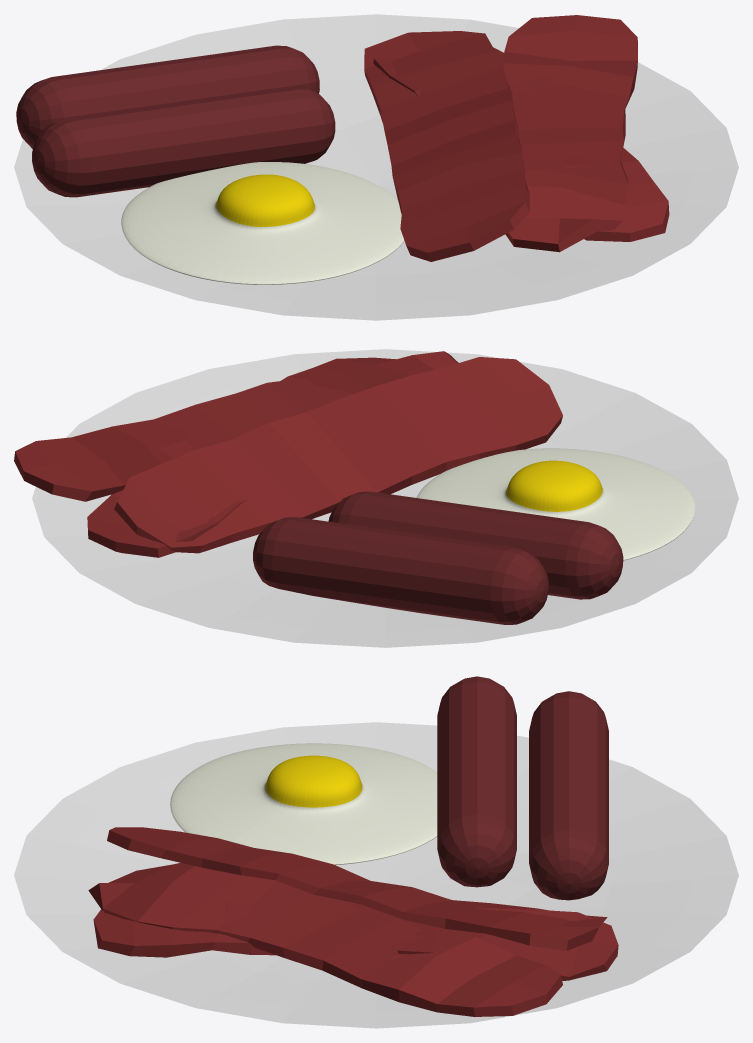
The model's file is Bacon.fbx.
The picture shows the model from 3 angles, top to bottom: view 1: azimuth 30°, elevation 25°; view 2: azimuth 150°, elevation 25°; view 3: azimuth 270°, elevation 25°; orthographic projection. The views are drawn at different scales.
Parts seen in each view (by area): view 1: Plate, Plane.002, Cube, Plane.001, Saussage.001, Saussage, Plane; view 2: Plate, Plane.002, Saussage, Plane.001, Cube, Saussage.001, Plane; view 3: Plate, Plane.001, Cube, Saussage.001, Saussage, Plane.002, Plane.
Boxes of the visible parts, x1,y1,x2,y2 form: Plate: [14, 14, 738, 320]; Plane.002: [364, 31, 529, 261]; Cube: [121, 162, 404, 284]; Plane.001: [503, 15, 637, 252]; Saussage.001: [32, 86, 335, 197]; Saussage: [16, 45, 319, 148]; Plane: [373, 47, 669, 241]; Plate: [32, 349, 738, 647]; Plane.002: [114, 357, 562, 553]; Saussage: [253, 517, 548, 624]; Plane.001: [14, 351, 458, 501]; Cube: [416, 448, 695, 560]; Saussage.001: [328, 491, 623, 599]; Plane: [87, 357, 395, 557]; Plate: [14, 722, 738, 1028]; Plane.001: [88, 863, 562, 1016]; Cube: [170, 743, 437, 865]; Saussage.001: [437, 676, 516, 887]; Saussage: [529, 691, 608, 900]; Plane.002: [107, 827, 607, 950]; Plane: [93, 892, 618, 980].
Size of the model in its own units: 263 by 44.82 by 263.
